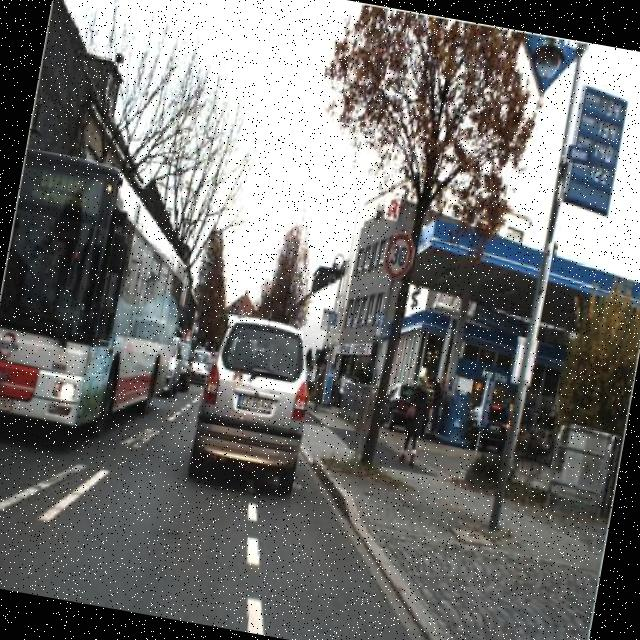Ograniczenie predkosci do 30: (381, 229, 416, 282)
